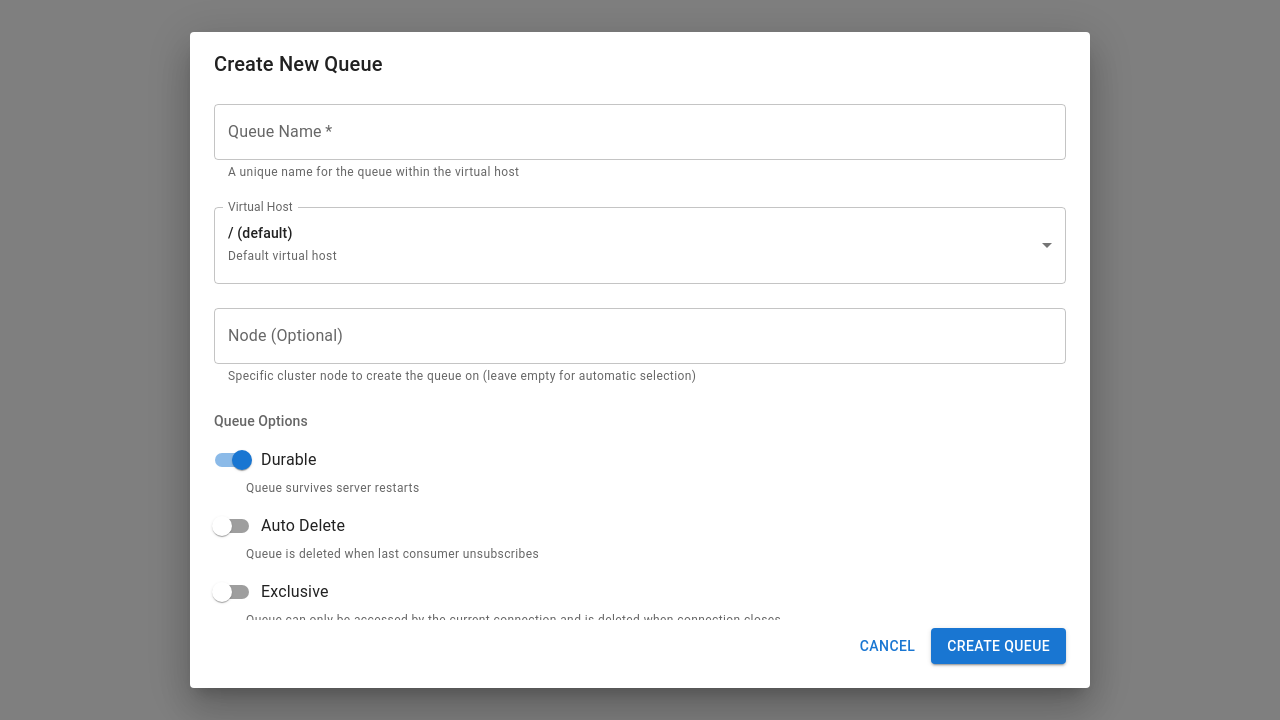
Test: CreateQueueDialog › Rendering › populates virtual host dropdown with available hosts
The image size is (1280, 720).
// Open the dropdown
Click the dropdown at (282, 244), box [228,225,337,263]
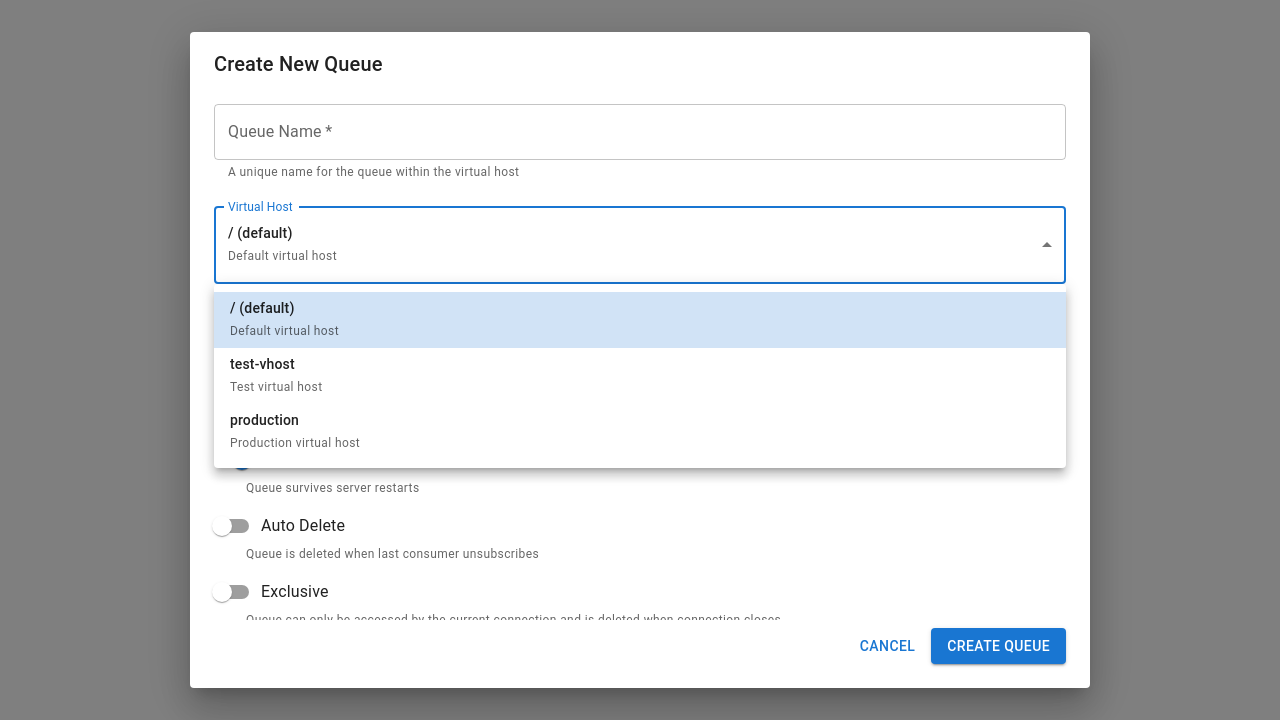
Expected: the text "test-vhost" is shown, [230,356,295,372]
Expected: the text "production" is shown, [230,412,299,428]
